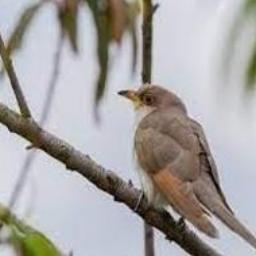Cuckoo: (117, 84, 256, 256)
